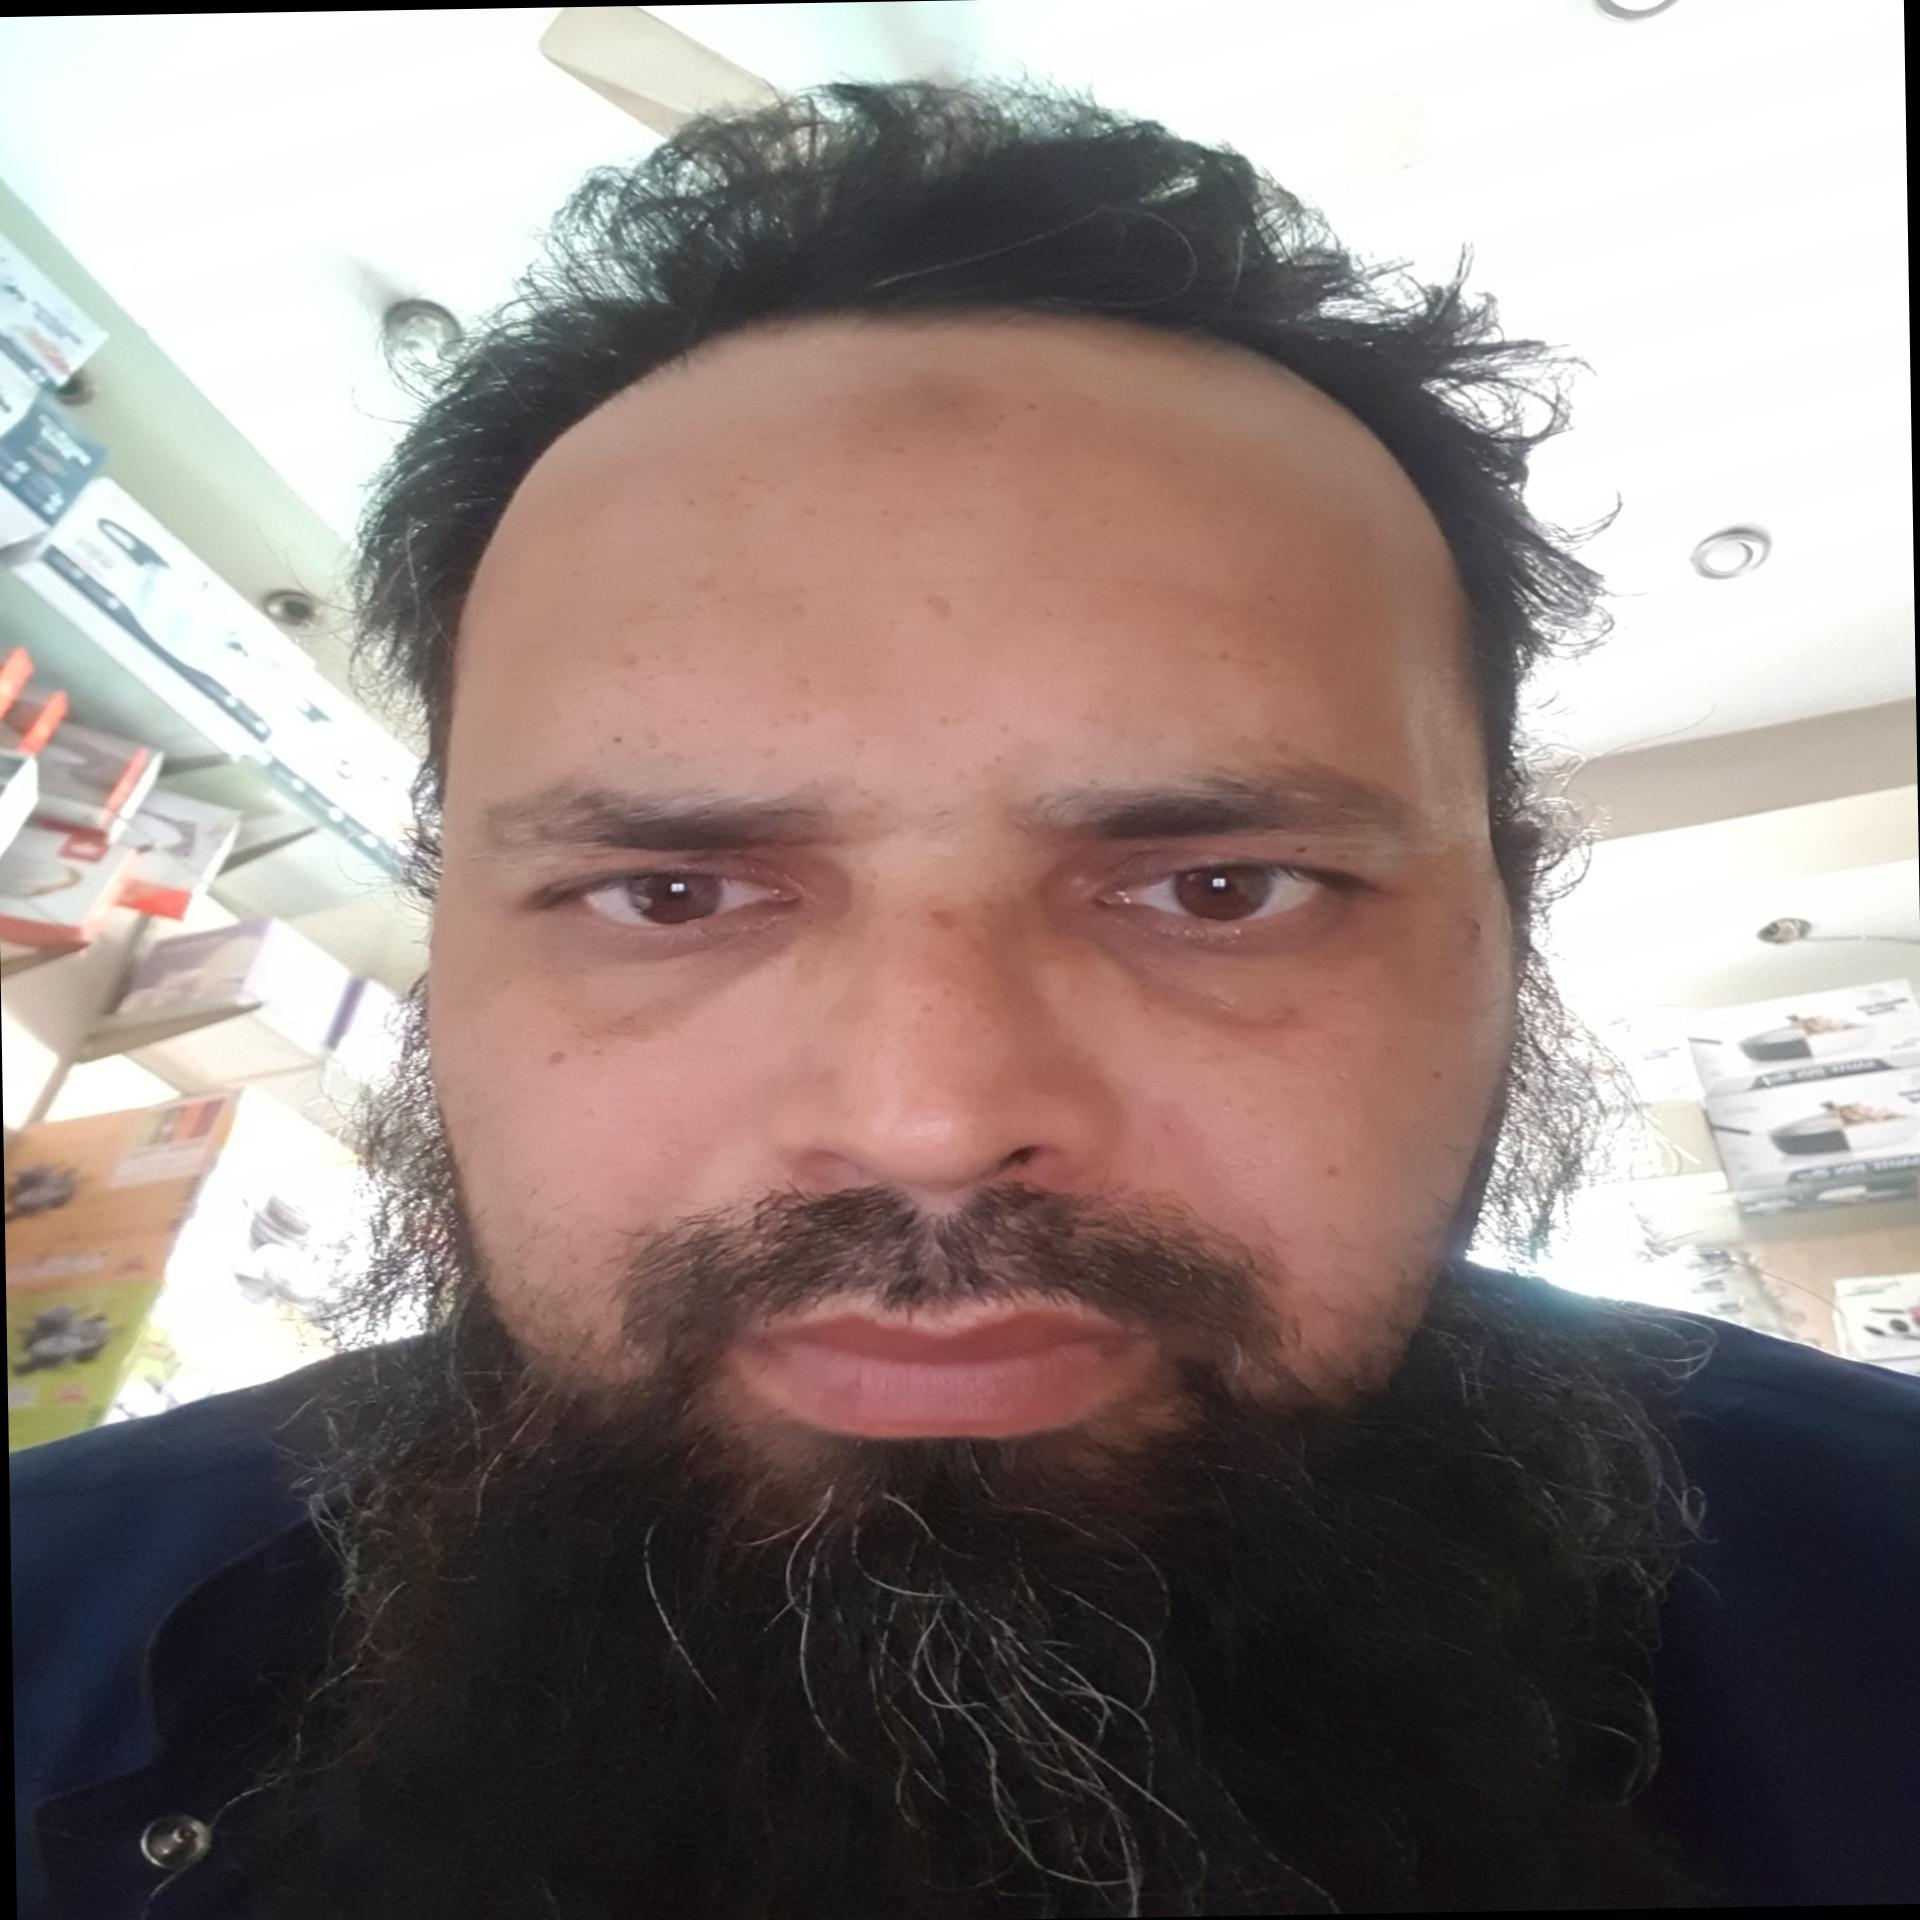Dark Circles: (510, 877, 855, 1036), (1053, 881, 1378, 1027)
Englarged Pores: (1145, 974, 1306, 1057), (552, 1002, 633, 1055)
Wrinkles: (621, 564, 1203, 614), (730, 499, 1088, 522), (547, 652, 832, 679), (1006, 647, 1291, 672), (554, 543, 661, 578)
